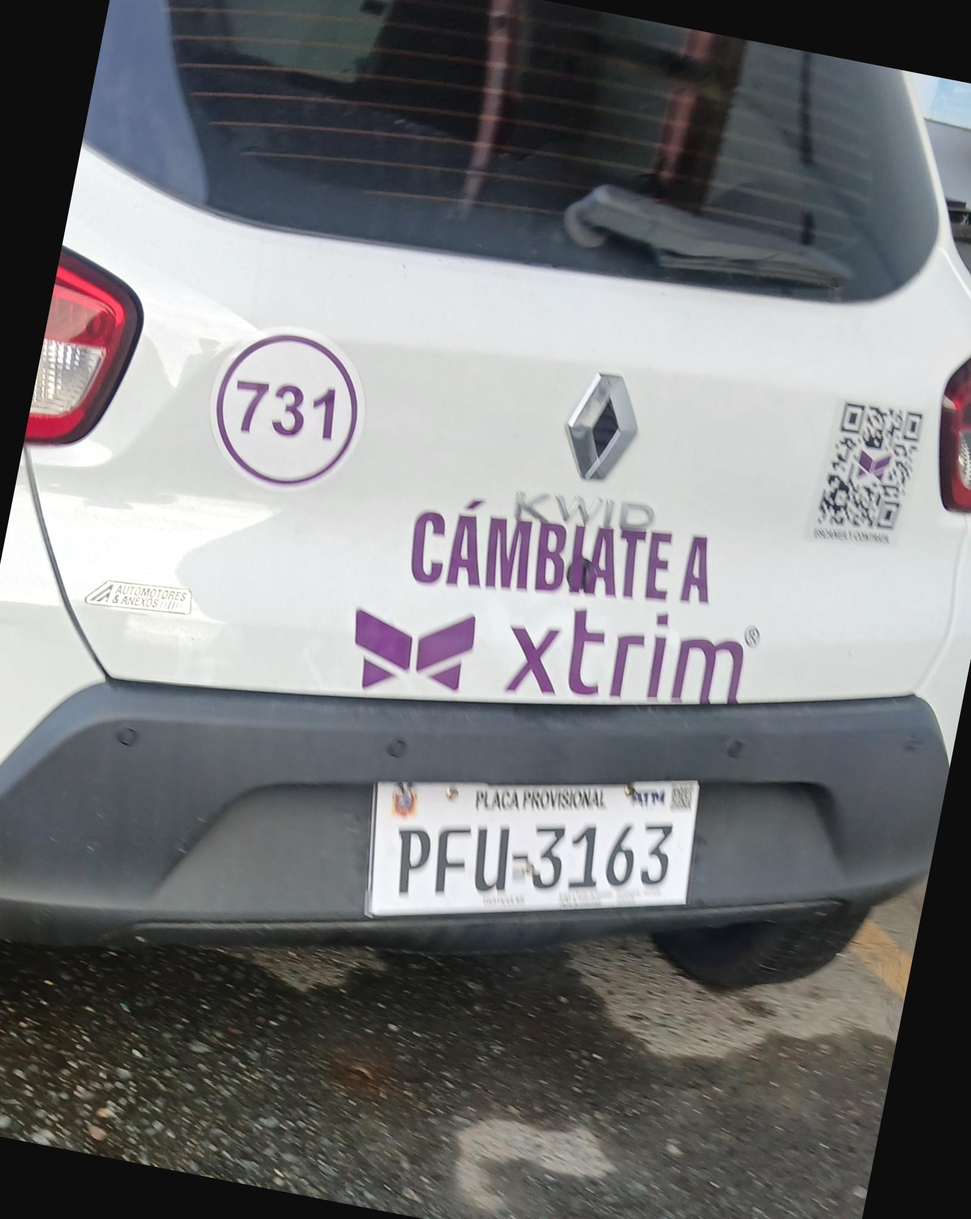license_plate: (347, 720, 708, 981)
